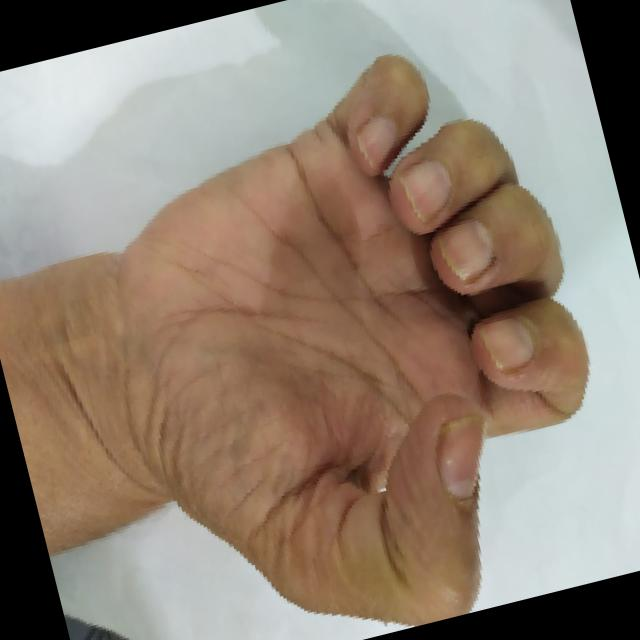Nail: (437, 413, 485, 497), (436, 217, 493, 281), (398, 158, 451, 222), (480, 317, 535, 370), (356, 114, 396, 165)
